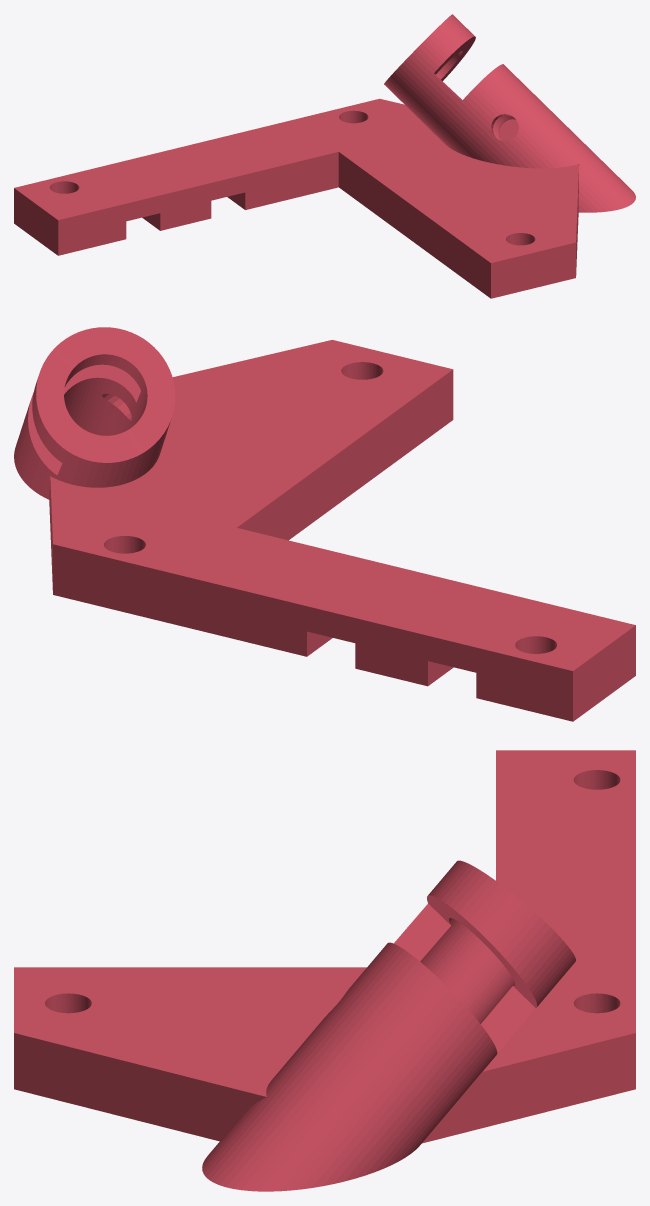
The model's file is Surprising Gogo-Fyyran.glb.
The picture shows the model from 3 angles, top to bottom: view 1: azimuth 30°, elevation 25°; view 2: azimuth 150°, elevation 25°; view 3: azimuth 270°, elevation 25°; orthographic projection. The views are drawn at different scales.
Visible parts, largest first — view 1: Mesh_Mesh_head_geo.001_lambert2SG.001; view 2: Mesh_Mesh_head_geo.001_lambert2SG.001; view 3: Mesh_Mesh_head_geo.001_lambert2SG.001.
Boxes of the visible parts, box(x1,y1,x2,y2) form: Mesh_Mesh_head_geo.001_lambert2SG.001: box(14, 14, 635, 298); Mesh_Mesh_head_geo.001_lambert2SG.001: box(14, 327, 635, 721); Mesh_Mesh_head_geo.001_lambert2SG.001: box(14, 750, 635, 1191).
Size of the model in its own units: 58.58 by 16.57 by 40.
